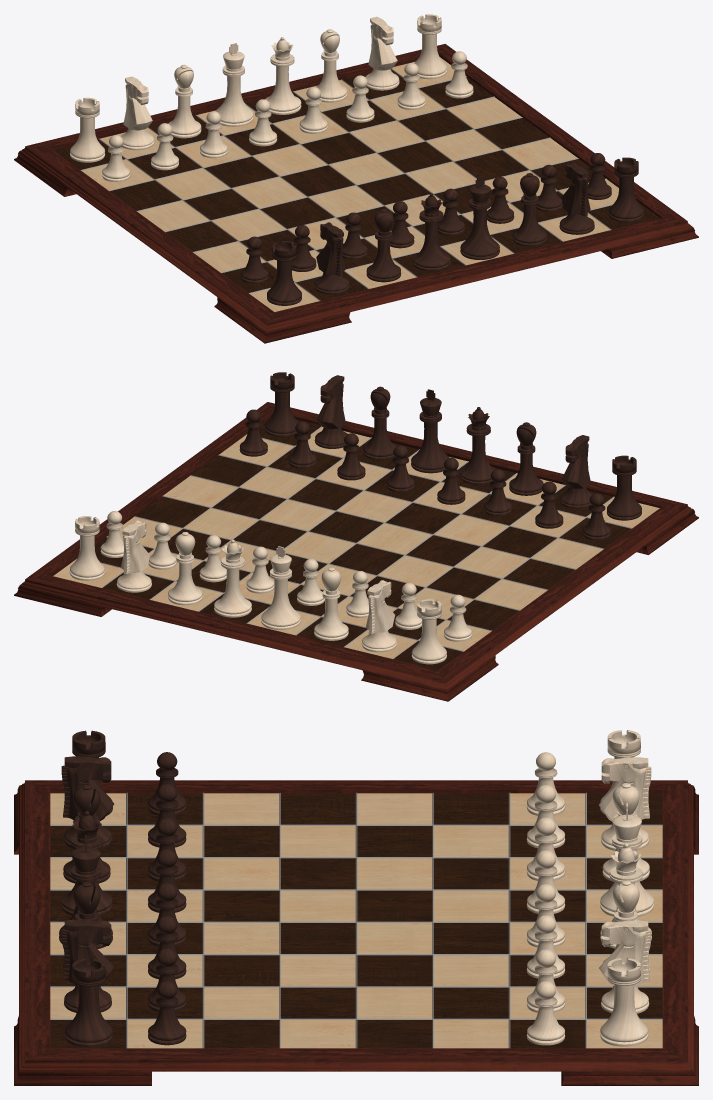
The model's file is Chess.fbx.
3 views of the same model, one above another, from view 1: azimuth 30°, elevation 25°; view 2: azimuth 150°, elevation 25°; view 3: azimuth 270°, elevation 25° (orthographic). The views are drawn at different scales.
Visible parts, largest first — view 1: Object033, Object032, Object030, Group001, Group002, Plane001, Cylinder005, Cylinder006, Cylinder003, Cylinder004; view 2: Object032, Object033, Object030, Group002, Group001, Plane001, Cylinder006, Cylinder005, Cylinder003, Cylinder004; view 3: Object033, Object032, Object030, Group002, Group001, Plane001, Cylinder004, Cylinder005, Cylinder003, Cylinder006.
Part boxes in pixels (<box>): Object033: <box>81,57,618,311</box>; Object032: <box>53,69,659,300</box>; Object030: <box>14,44,698,343</box>; Group001: <box>240,153,643,305</box>; Group002: <box>70,14,473,182</box>; Plane001: <box>80,68,612,300</box>; Cylinder005: <box>365,16,399,90</box>; Cylinder006: <box>120,76,154,150</box>; Cylinder003: <box>314,222,349,294</box>; Cylinder004: <box>559,162,594,234</box>; Object032: <box>95,417,630,670</box>; Object033: <box>53,427,659,658</box>; Object030: <box>14,402,698,701</box>; Group002: <box>69,511,471,664</box>; Group001: <box>239,372,641,540</box>; Plane001: <box>100,426,632,658</box>; Cylinder006: <box>361,580,396,652</box>; Cylinder005: <box>116,520,151,592</box>; Cylinder003: <box>559,435,592,508</box>; Cylinder004: <box>314,375,347,448</box>; Object033: <box>50,793,662,1048</box>; Object032: <box>50,793,662,1048</box>; Object030: <box>14,780,698,1085</box>; Group002: <box>526,730,654,1046</box>; Group001: <box>59,730,186,1047</box>; Plane001: <box>50,792,662,1048</box>; Cylinder004: <box>61,919,113,1012</box>; Cylinder005: <box>599,920,651,1013</box>; Cylinder003: <box>61,756,113,849</box>; Cylinder006: <box>599,757,651,850</box>.
Bounding box in the file's own units: 224 × 43.51 × 224.
